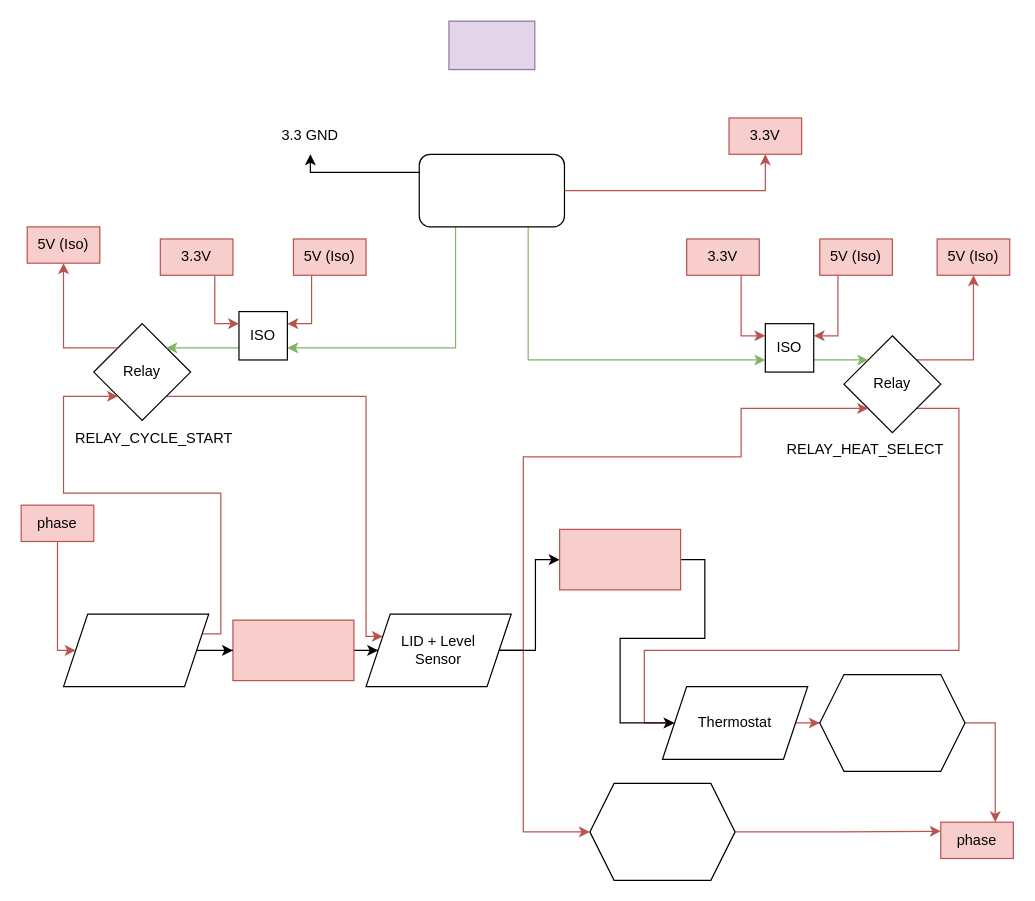
The diagram is 1035 pixels wide and 901 high, and some of its shapes have lost their labels. Here are the shapes that lost their labels. From the top down, the centre of each, then its label:
At point (491, 45): "COMMAND CIRCUIT".
At point (491, 190): "ESP32 - C6".
At point (619, 559): "Original Selector (Removed)".
At point (135, 650): "Fuse".
At point (293, 650): "Original Timer (Removed)".
At point (892, 722): "HEATER".
At point (662, 831): "WASHER".
